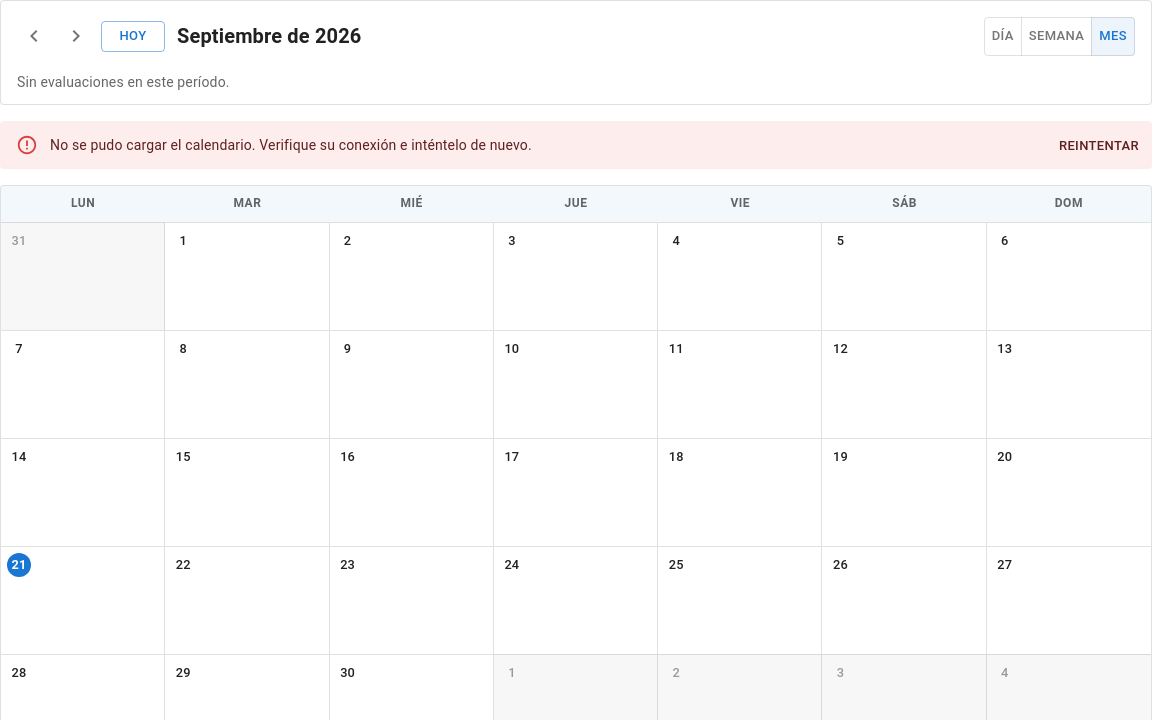
CalendarioEvaluador › errores › si falla la carga, lo avisa y permite reintentar
This screenshot has width=1152, height=720.
expect the text "No se pudo cargar el calendario" is shown: met, box [50,137,532,153]
Click the button "Reintentar": x=1099, y=146 [1054,131,1144,162]
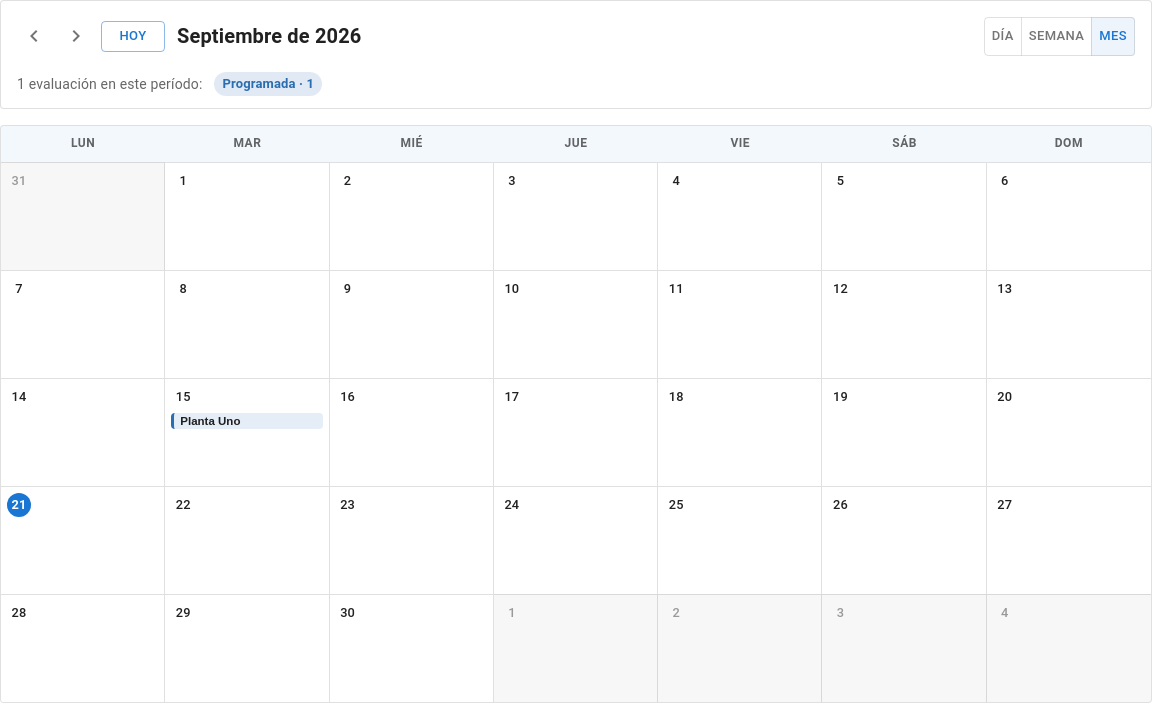
expect the button with aria-label "Planta Uno, Programada" is shown: met, box [171,413,323,429]
